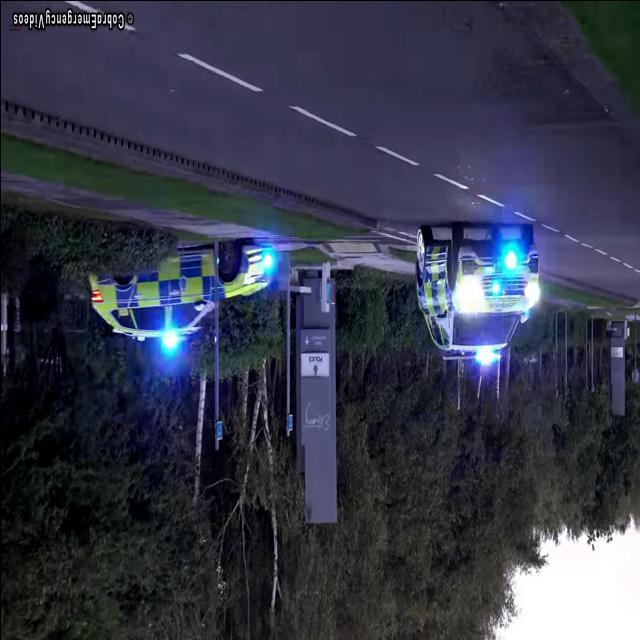emergency-vehicles: (390, 195, 566, 371), (72, 214, 280, 358)
